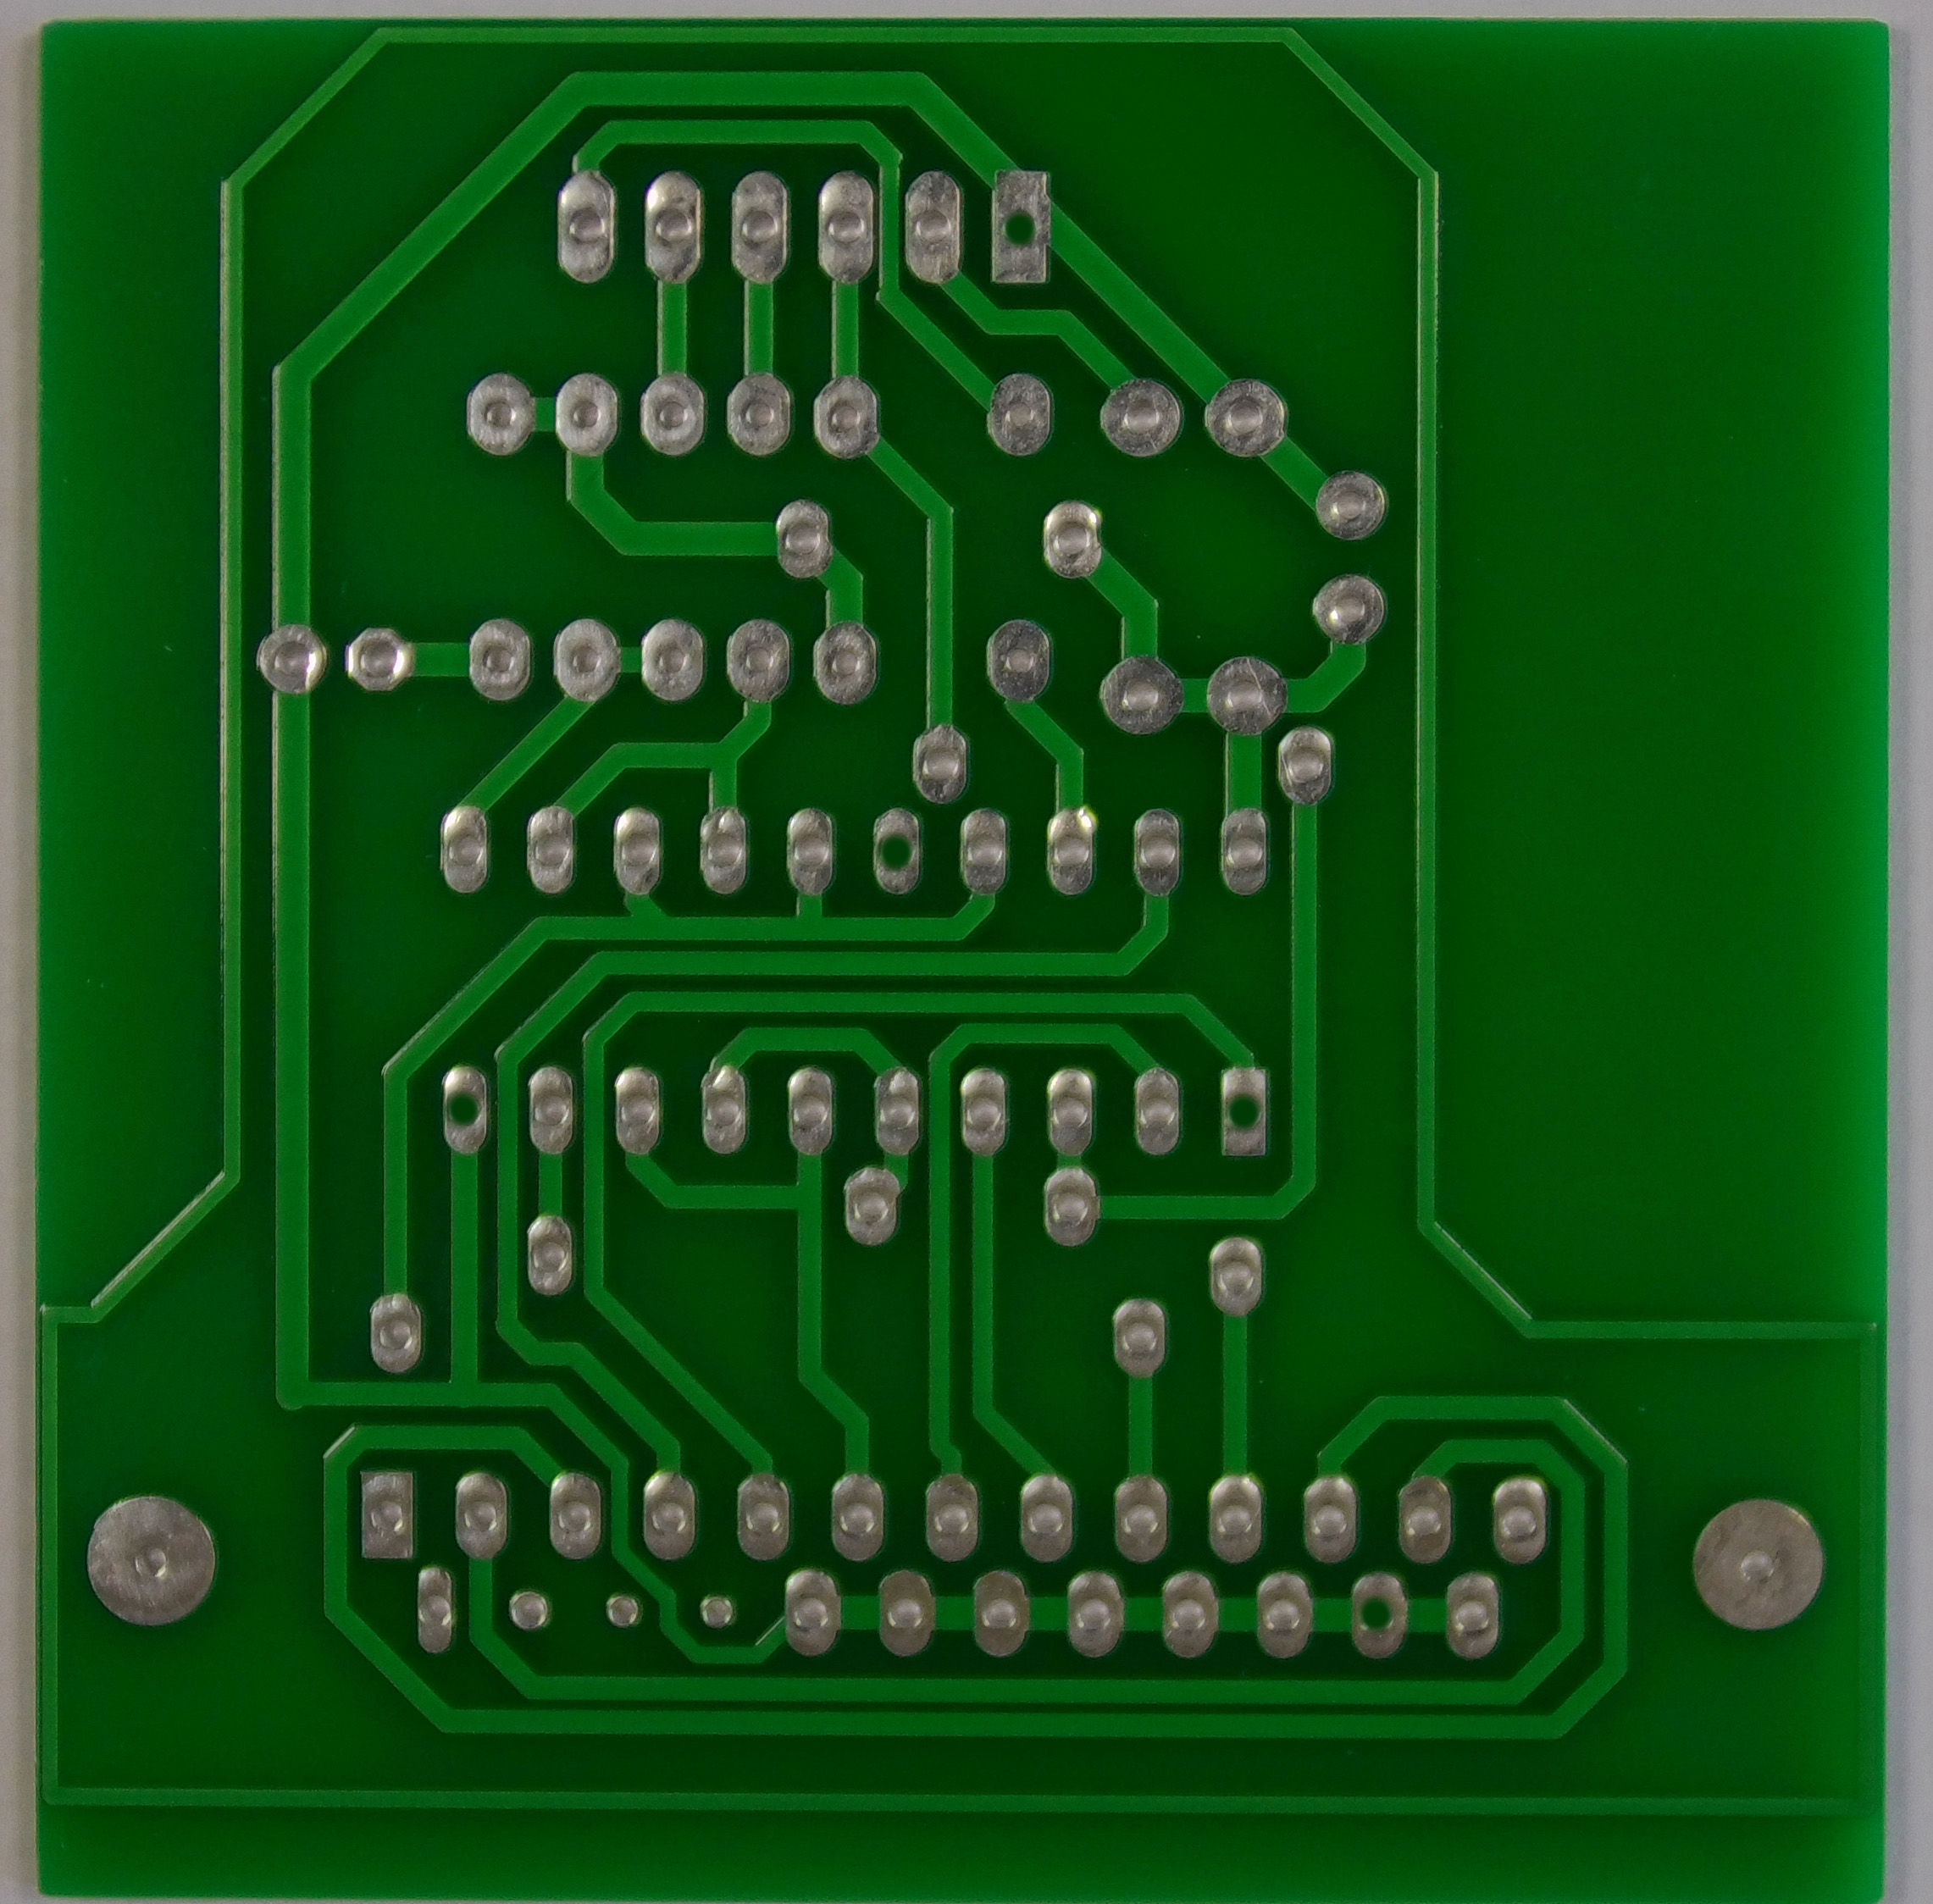missing_hole: (981, 188, 1063, 266), (1215, 1067, 1277, 1154), (1350, 1577, 1413, 1658), (434, 1071, 496, 1149), (868, 813, 928, 894)
